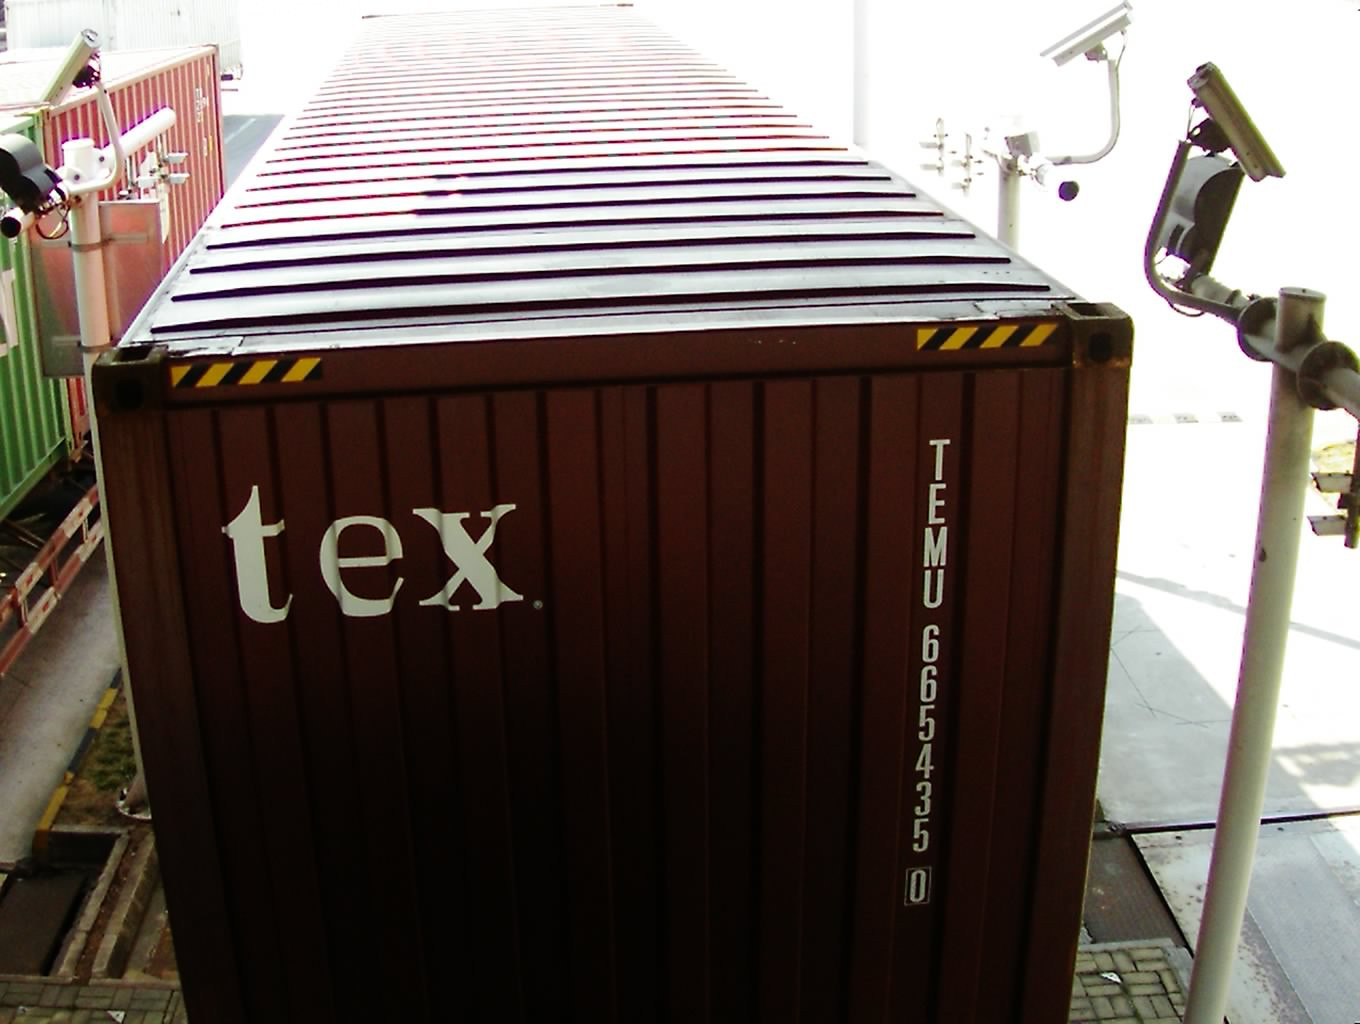words: (898, 430, 956, 907)
